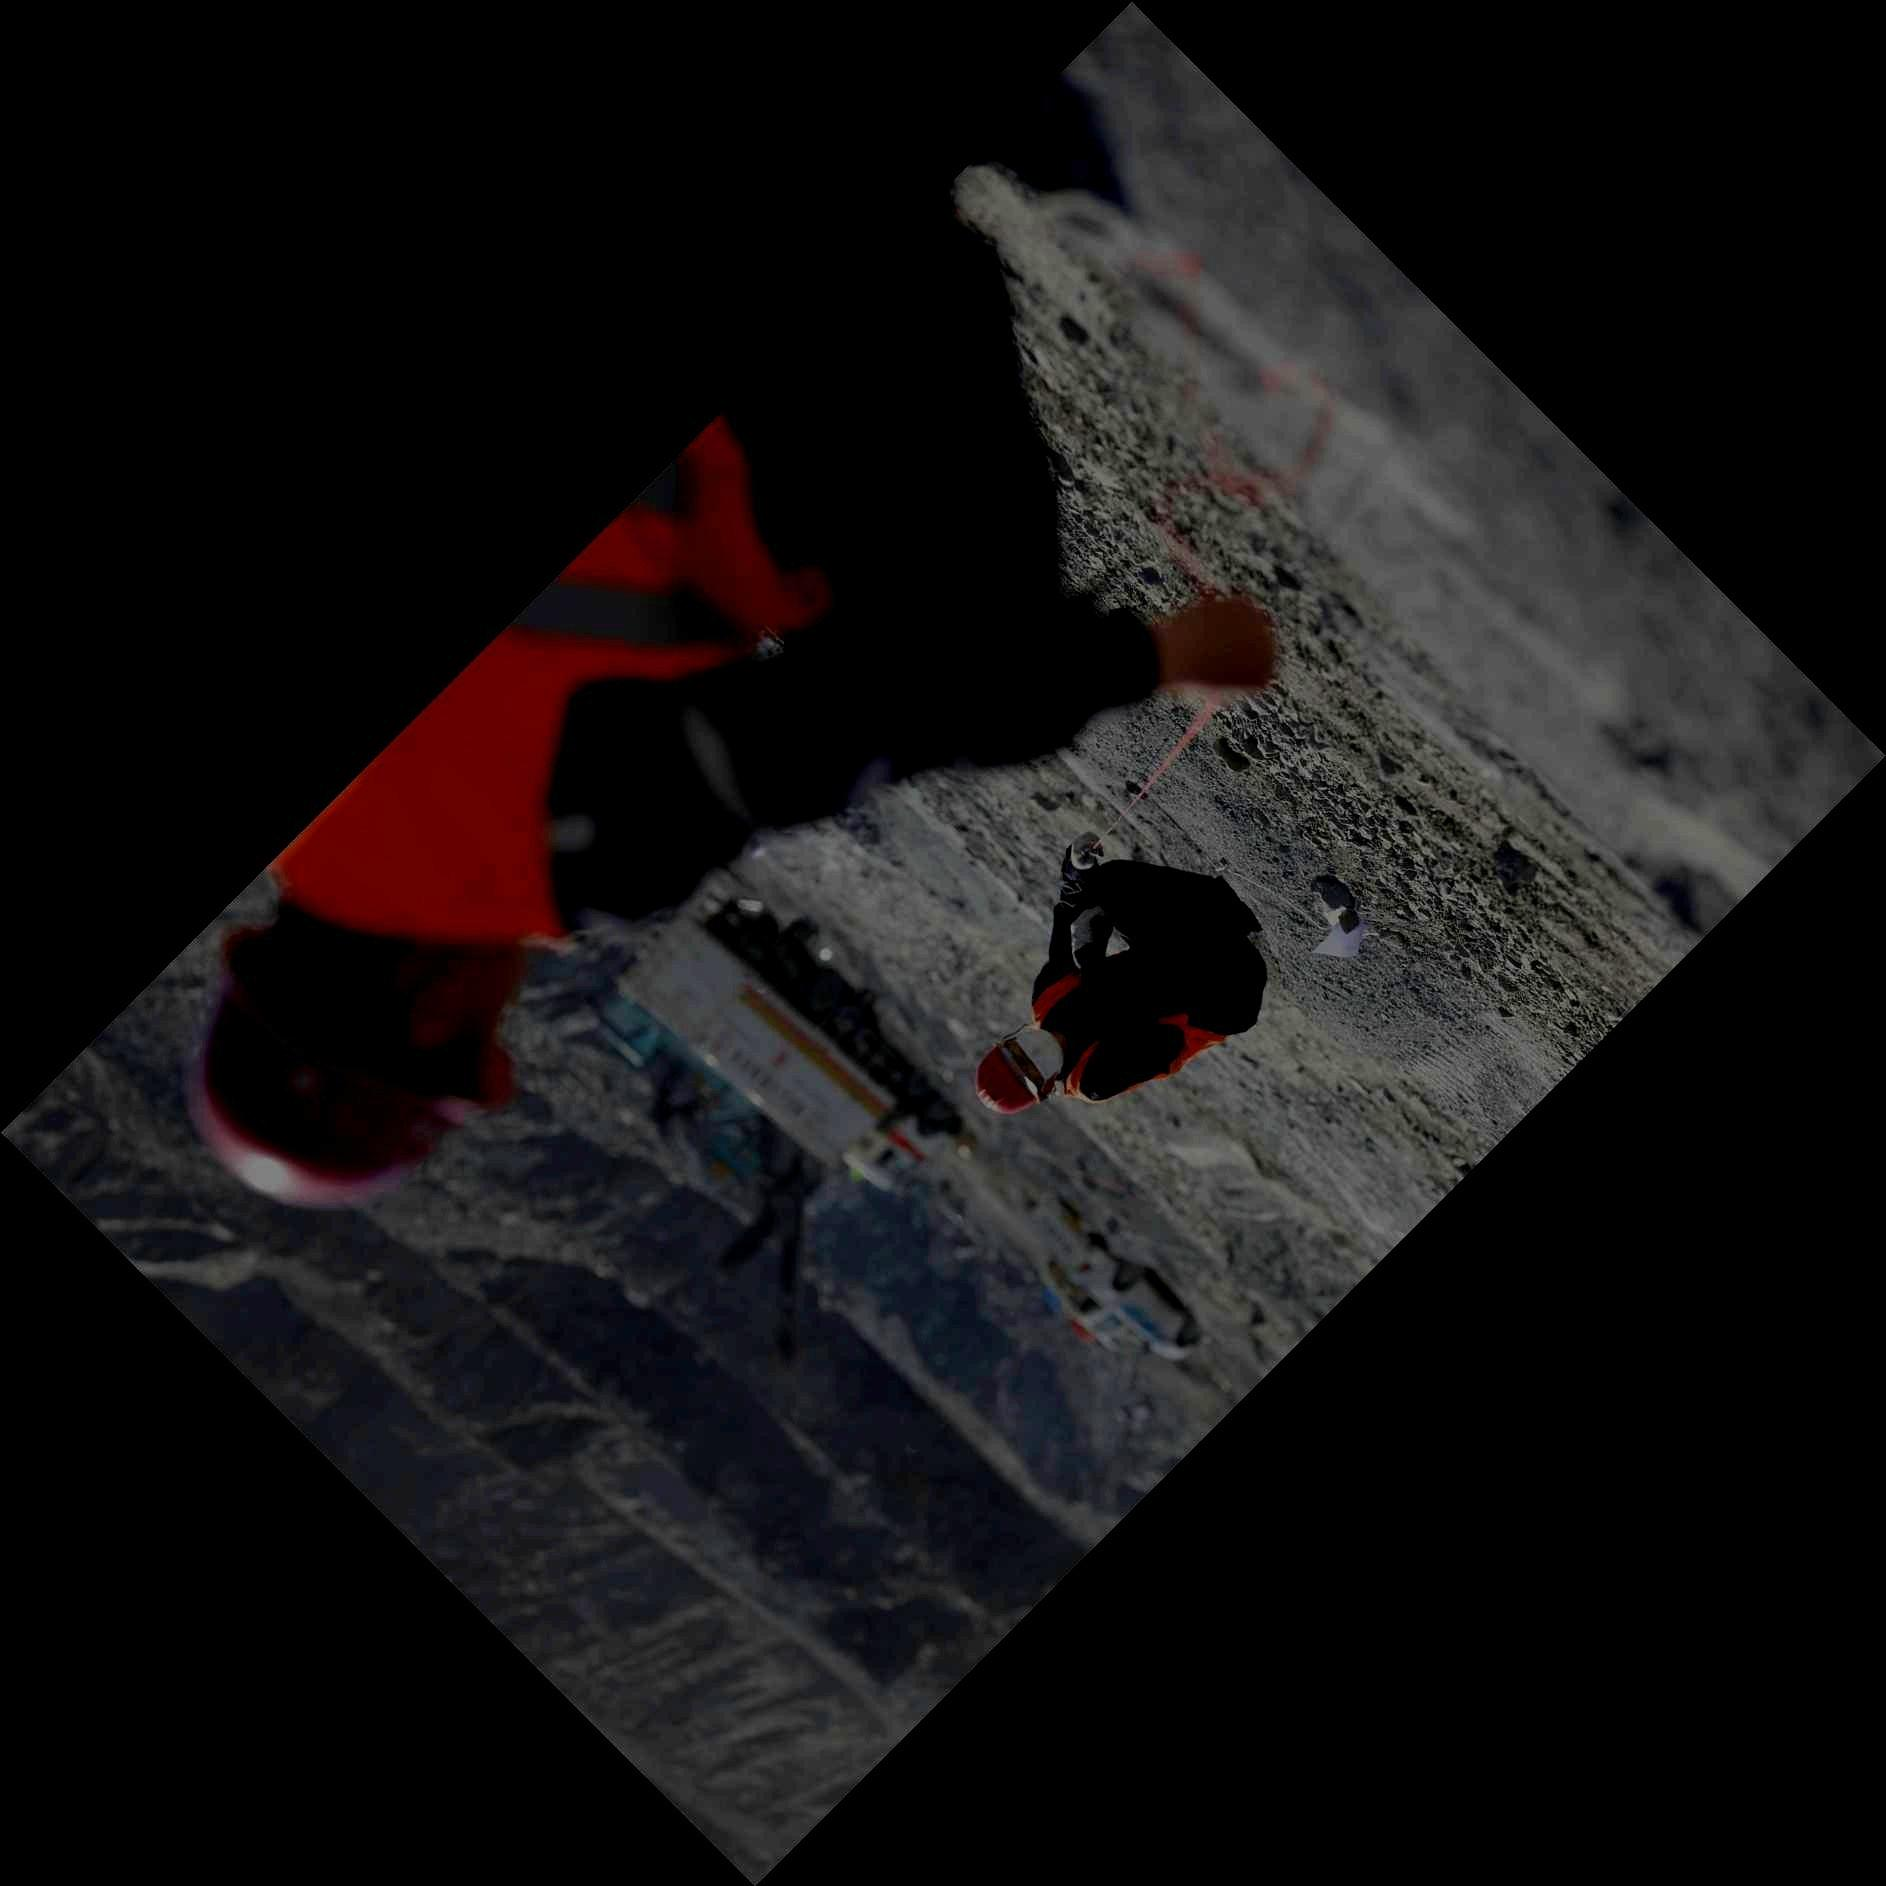helmet: (181, 896, 520, 1212), (974, 1024, 1067, 1116)
